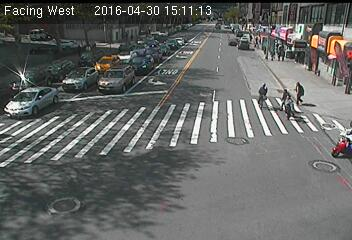neg: (328, 122, 351, 157), (291, 147, 314, 177), (253, 79, 275, 109), (185, 160, 207, 188), (207, 118, 229, 146), (129, 166, 149, 193), (3, 144, 23, 171), (89, 151, 108, 176), (179, 85, 197, 110), (82, 93, 99, 115), (50, 127, 67, 149), (256, 159, 273, 181), (23, 100, 37, 120), (92, 12, 106, 31), (292, 24, 306, 43), (128, 61, 142, 79), (318, 77, 331, 95), (322, 27, 335, 45), (108, 93, 121, 110), (250, 34, 263, 50), (42, 83, 54, 99), (60, 53, 71, 68), (174, 13, 185, 28), (37, 59, 47, 73), (133, 22, 143, 35), (186, 51, 195, 63), (223, 19, 231, 30), (226, 52, 230, 58)
pos: (288, 78, 308, 105), (282, 95, 298, 116), (274, 46, 290, 67), (278, 87, 292, 105), (267, 49, 278, 63)
